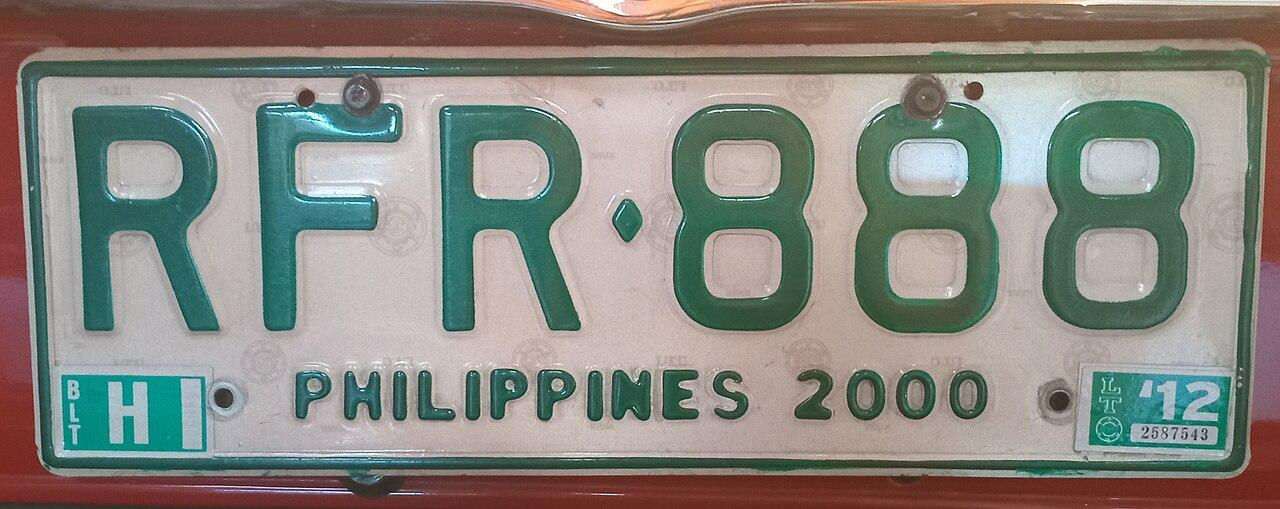plate: (11, 56, 1255, 478)
